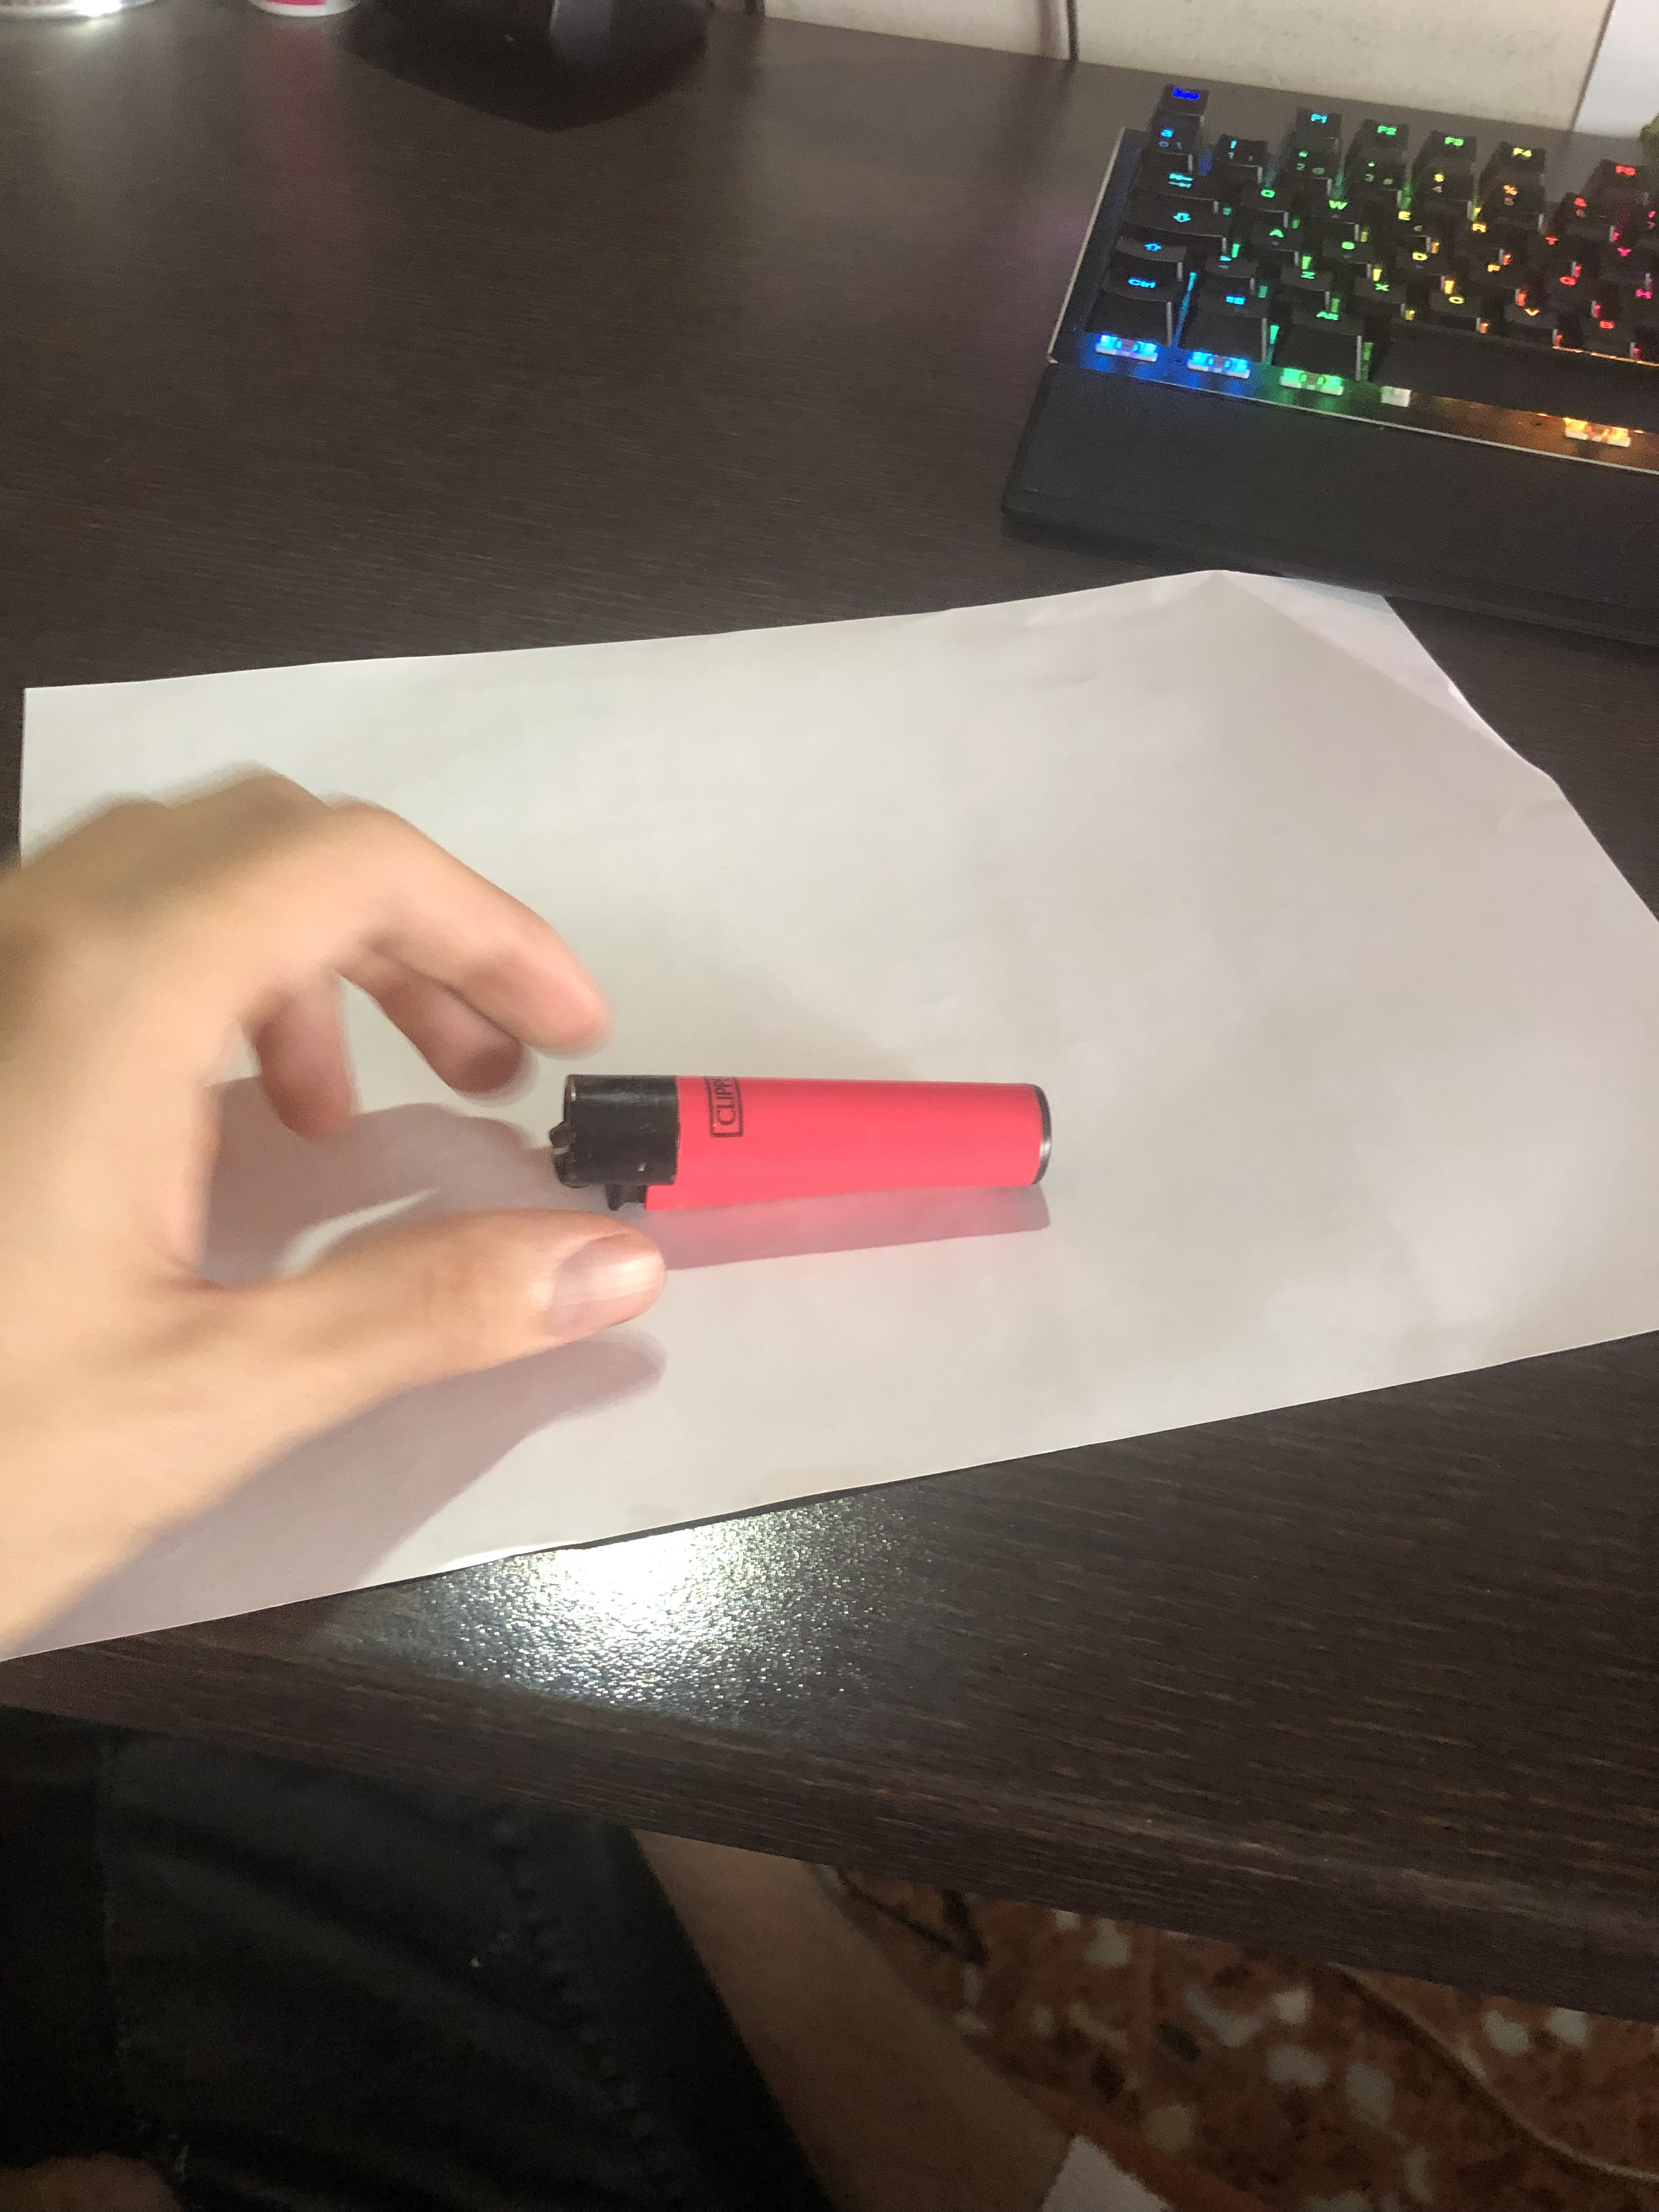Mechero: (498, 1066, 1096, 1214)
